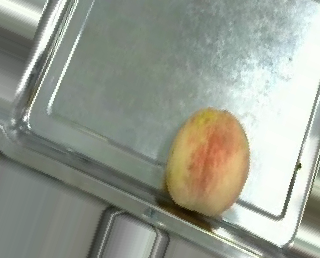Peach: (164, 106, 249, 215)
